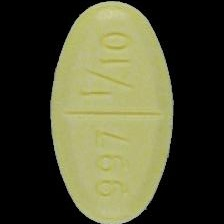0555-0997: (0, 0, 224, 224)
